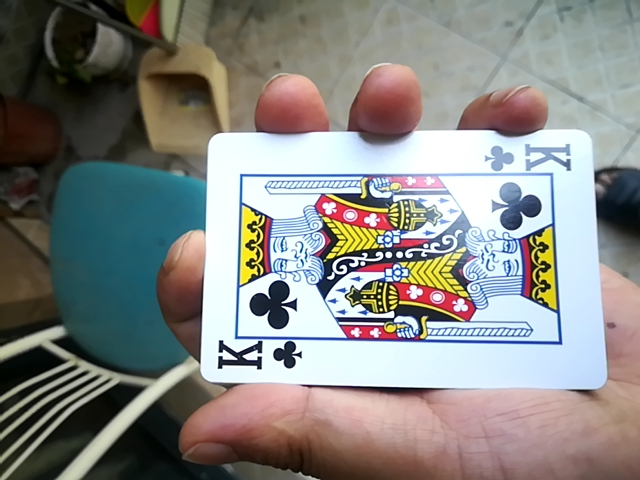mh k: (189, 126, 613, 387)
